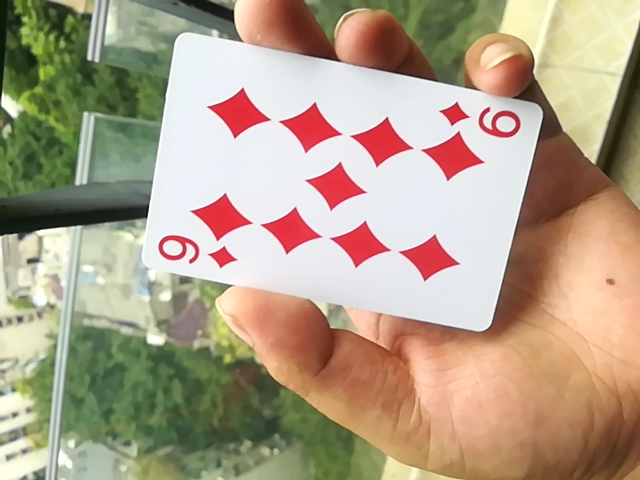fk 9: (140, 32, 537, 333)
